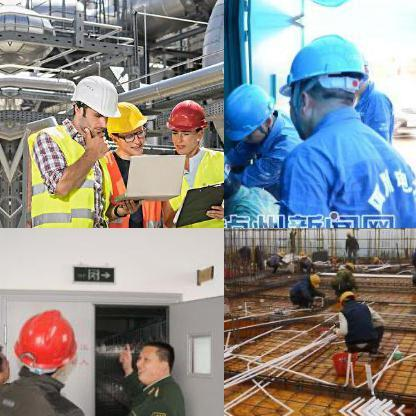Helmet: (278, 25, 376, 131), (11, 302, 79, 392), (224, 78, 281, 149), (65, 65, 117, 141), (98, 95, 152, 156), (158, 92, 212, 152), (278, 0, 378, 15), (338, 286, 356, 306), (305, 270, 319, 286), (294, 245, 306, 258), (342, 258, 354, 270)
